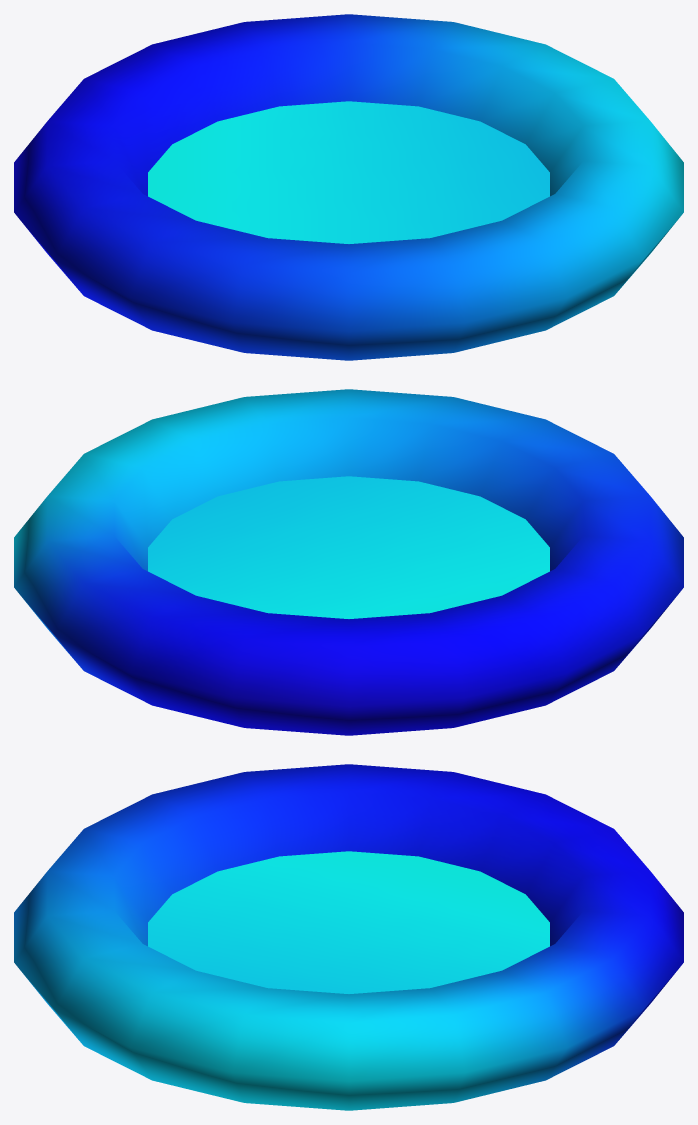
Rendered from Platform_Water.fbx.
The picture shows the model from 3 angles, top to bottom: view 1: azimuth 30°, elevation 25°; view 2: azimuth 150°, elevation 25°; view 3: azimuth 270°, elevation 25°; orthographic projection.
Visible parts, largest first — view 1: Water_Base; view 2: Water_Base; view 3: Water_Base.
Boxes of the visible parts, <box> form: Water_Base: <box>14,14,683,360</box>; Water_Base: <box>14,389,683,735</box>; Water_Base: <box>14,764,683,1110</box>.
Bounding box in the file's own units: 2.71 × 0.3861 × 2.67.
1 material, 1 textured.
